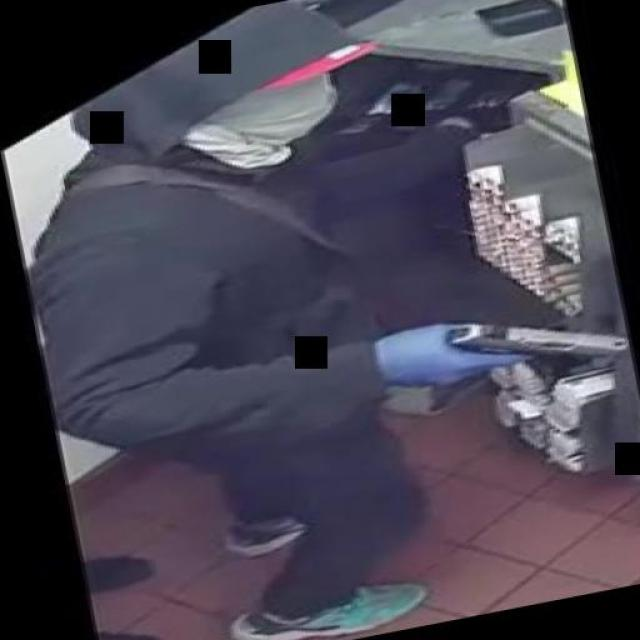gun: (398, 285, 632, 401)
